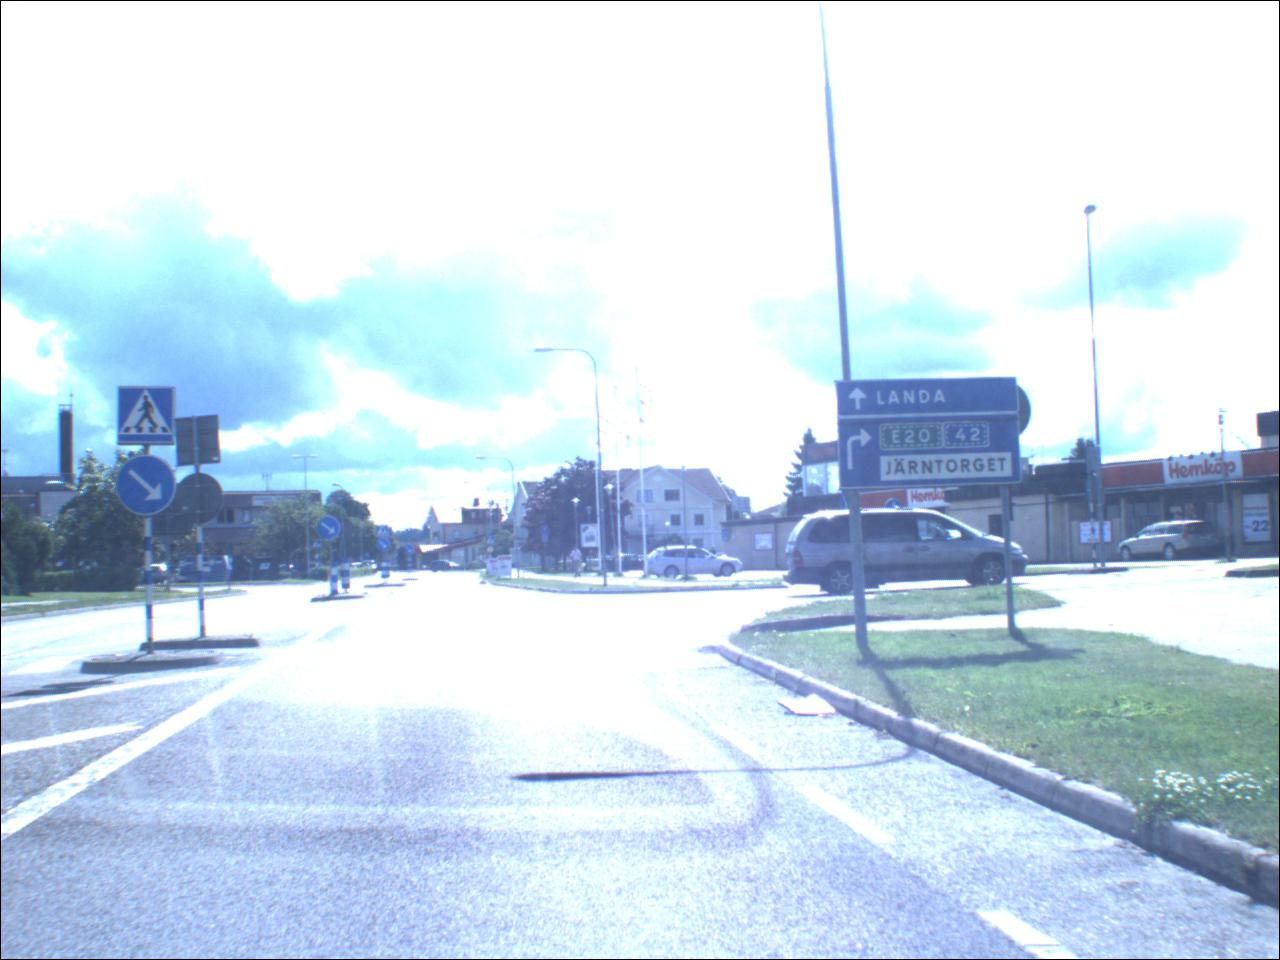PASS_RIGHT_SIDE: (118, 457, 179, 519), (316, 518, 343, 541), (378, 541, 392, 554), (406, 546, 417, 558)
PEDESTRIAN_CROSSING: (119, 388, 178, 447), (378, 527, 392, 541), (315, 541, 325, 551), (489, 539, 498, 548)
PRIORITY_ROAD: (490, 548, 497, 556)
